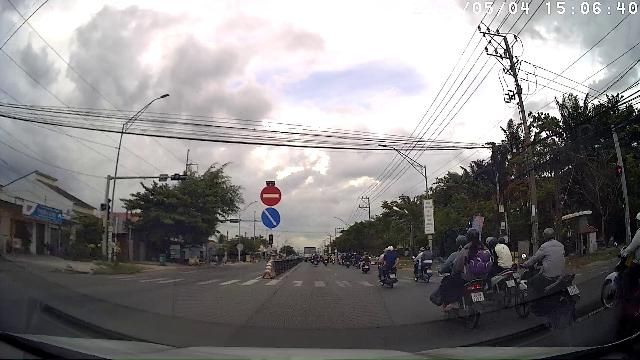102-cam-di-nguoc-chieu: (260, 186, 282, 206)
302a-huong-phai-di-vong-chuong-ngai-vat-1: (261, 207, 281, 228)
